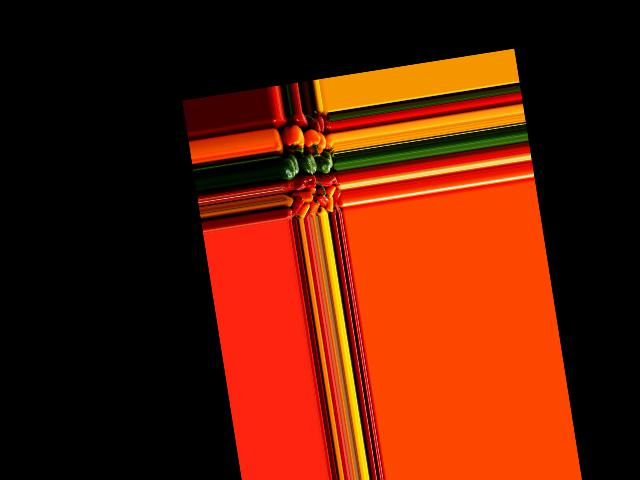bell_pepper: (288, 196, 306, 217)
